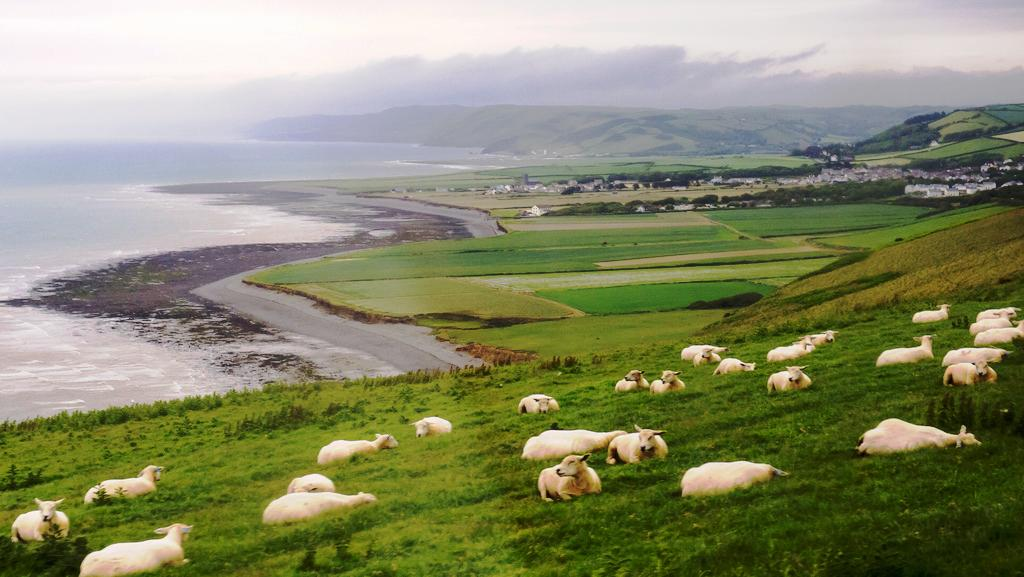Sheep: (82, 525, 194, 576), (856, 418, 978, 454), (264, 488, 379, 524), (681, 460, 784, 497), (522, 424, 622, 460), (538, 453, 602, 503), (86, 464, 165, 502), (11, 498, 70, 545), (606, 424, 668, 465), (318, 432, 395, 463), (876, 334, 936, 366), (944, 359, 996, 386), (943, 346, 1008, 367), (767, 364, 812, 392), (765, 340, 814, 362), (974, 324, 1024, 344), (286, 473, 336, 493), (408, 416, 452, 438), (649, 370, 685, 394), (711, 356, 756, 375), (615, 369, 650, 392), (518, 393, 558, 413), (681, 344, 727, 361), (912, 304, 951, 323), (975, 306, 1019, 321), (798, 330, 837, 346), (969, 319, 1012, 333)
